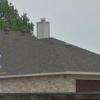Chimney: (31, 15, 56, 50)
